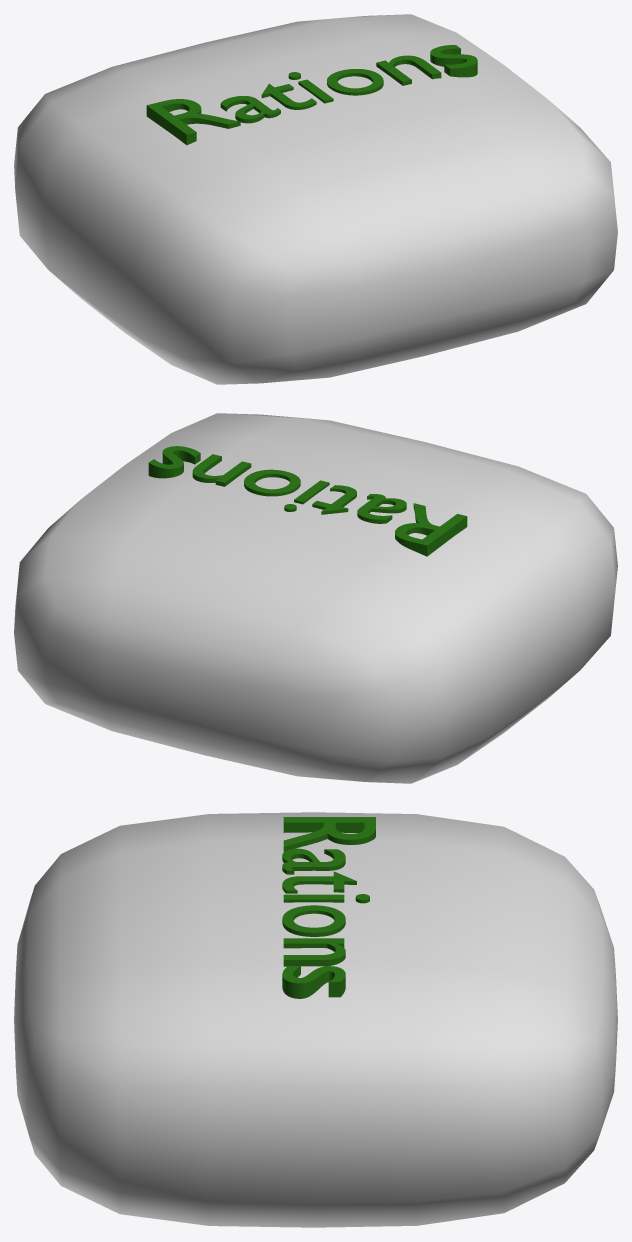
Rendered from food1.fbx.
3 views of the same model, one above another, from view 1: azimuth 30°, elevation 25°; view 2: azimuth 150°, elevation 25°; view 3: azimuth 270°, elevation 25° (orthographic). The views are drawn at different scales.
Visible parts, largest first — view 1: Cube; view 2: Cube; view 3: Cube.
Part boxes in pixels (x1=…): Cube: x1=14, y1=14, x2=617, y2=384; Cube: x1=14, y1=413, x2=617, y2=783; Cube: x1=14, y1=812, x2=617, y2=1227.
Size of the model in its own units: 200 by 89.78 by 200.
